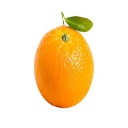orange: (34, 15, 97, 108)
